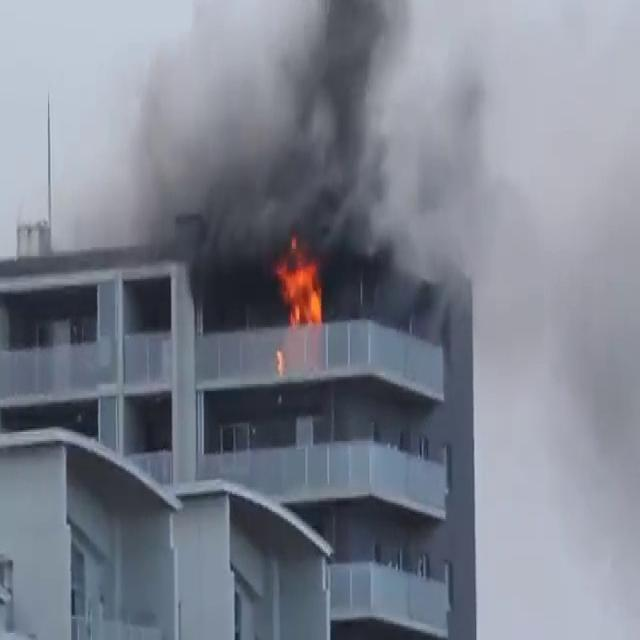Fire: (271, 245, 327, 332)
Smoke: (112, 0, 638, 336)
